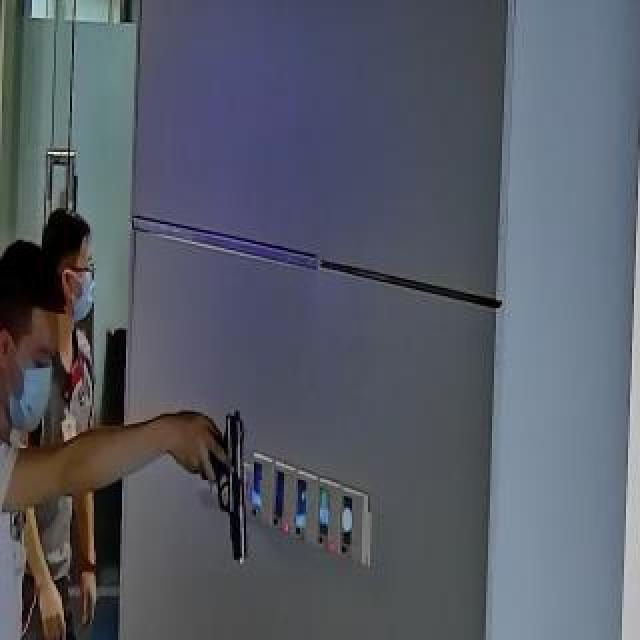Guns: (195, 402, 272, 577)
